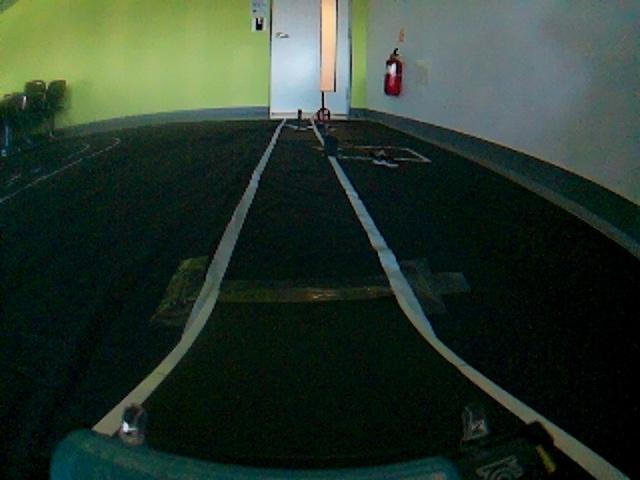go: (179, 132, 444, 297)
hill_down: (85, 347, 605, 478)
